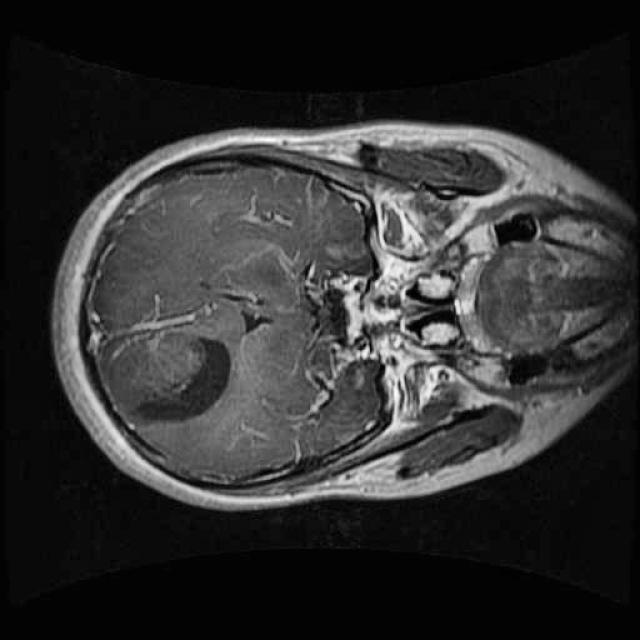Non-Tumor: (103, 316, 246, 439)
